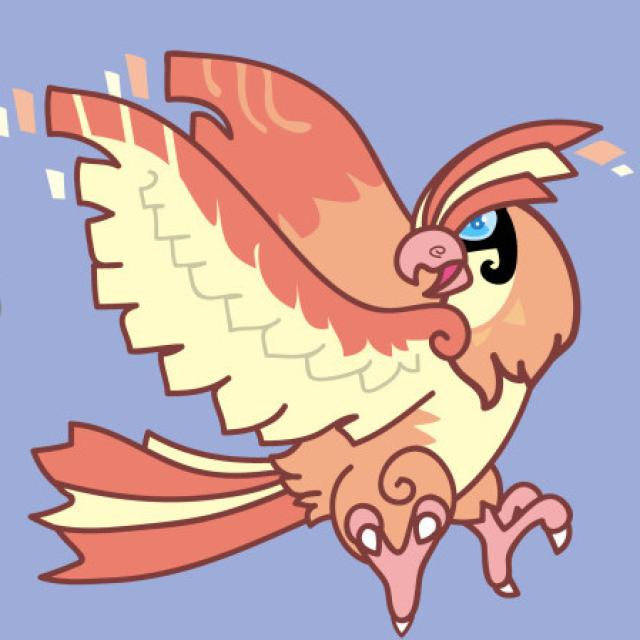Pidgeotto: (78, 112, 584, 614)
